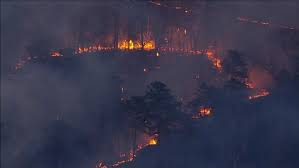smoke: (11, 82, 72, 138)
